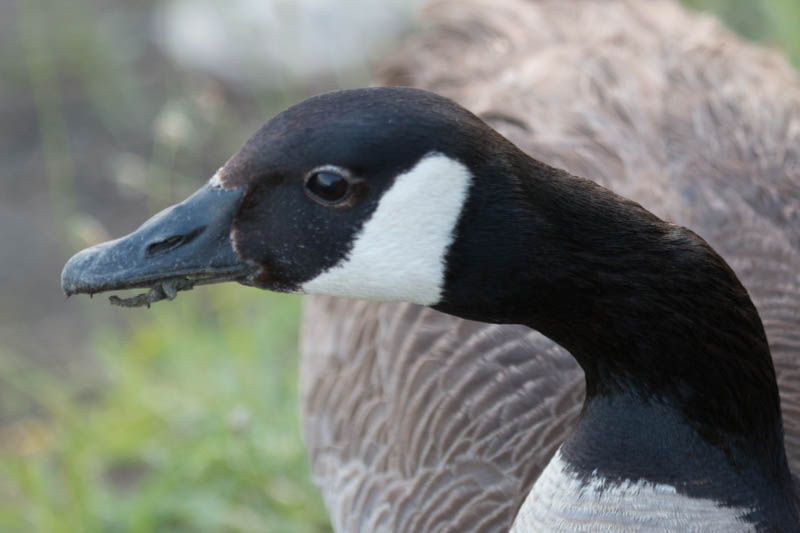goose-head: (60, 88, 532, 326)
